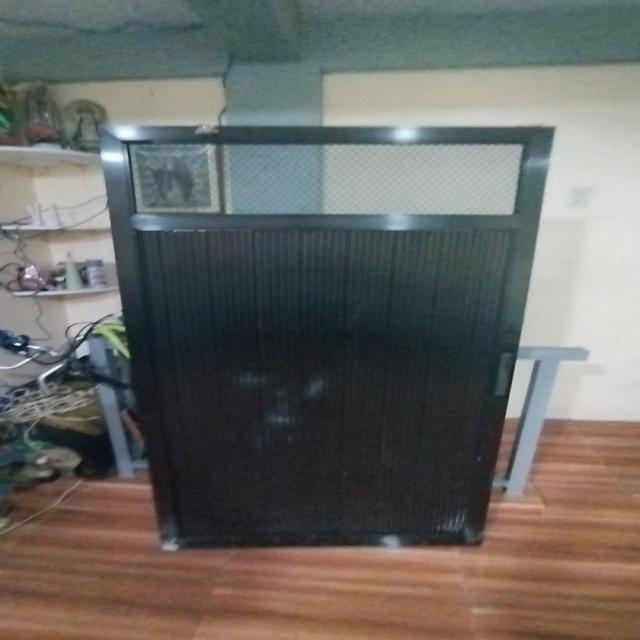door: (92, 113, 560, 549)
